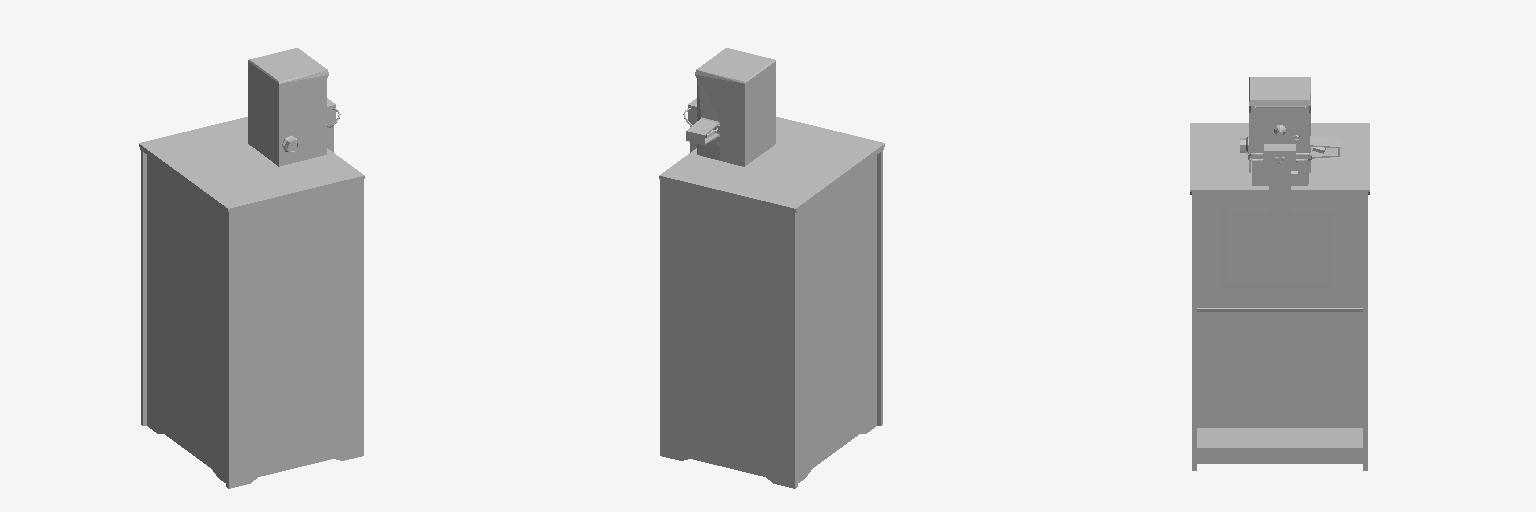
Rendered from NewspaperBox_LOD1.obj.
3 renders of one model, left to right at view 1: azimuth 30°, elevation 25°; view 2: azimuth 150°, elevation 25°; view 3: azimuth 270°, elevation 25°, orthographic.
Parts seen in each view (by area): view 1: NewspaperBox_LOD1 NewspaperBox; view 2: NewspaperBox_LOD1 NewspaperBox; view 3: NewspaperBox_LOD1 NewspaperBox.
Part boxes in pixels (bbox=[...]): NewspaperBox_LOD1 NewspaperBox: bbox=[139, 48, 364, 488]; NewspaperBox_LOD1 NewspaperBox: bbox=[659, 48, 884, 488]; NewspaperBox_LOD1 NewspaperBox: bbox=[1190, 77, 1369, 470].
Size of the model in its own units: 58.71 by 142 by 62.77.